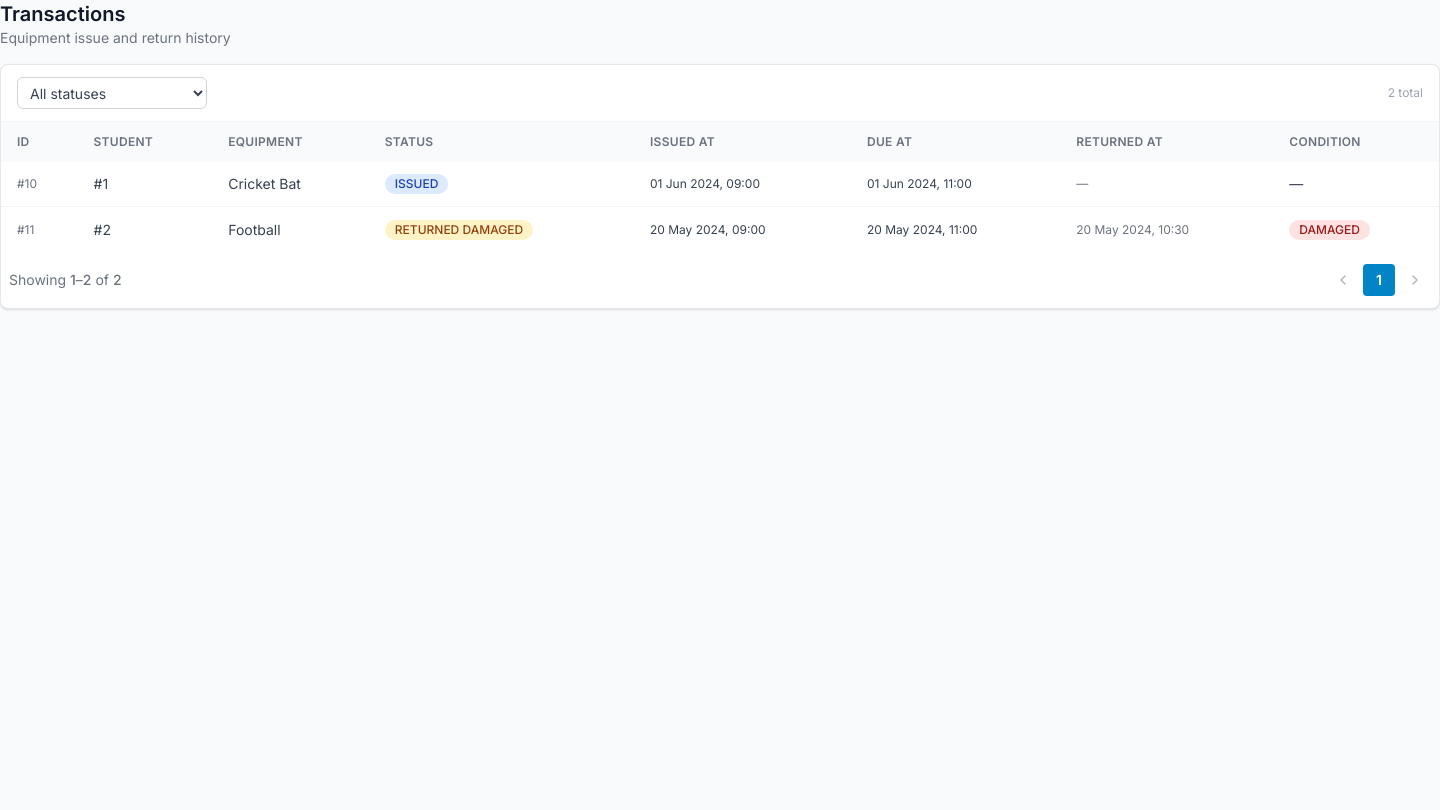
Test: TransactionsPage › shows transaction detail modal on row click
The width and height of the screenshot is (1440, 810).
Expected: the text "Cricket Bat" is shown, [212,162,369,206]
Click the row that starts with "Cricket Bat". click: (720, 184)
box: [1,162,1439,206]
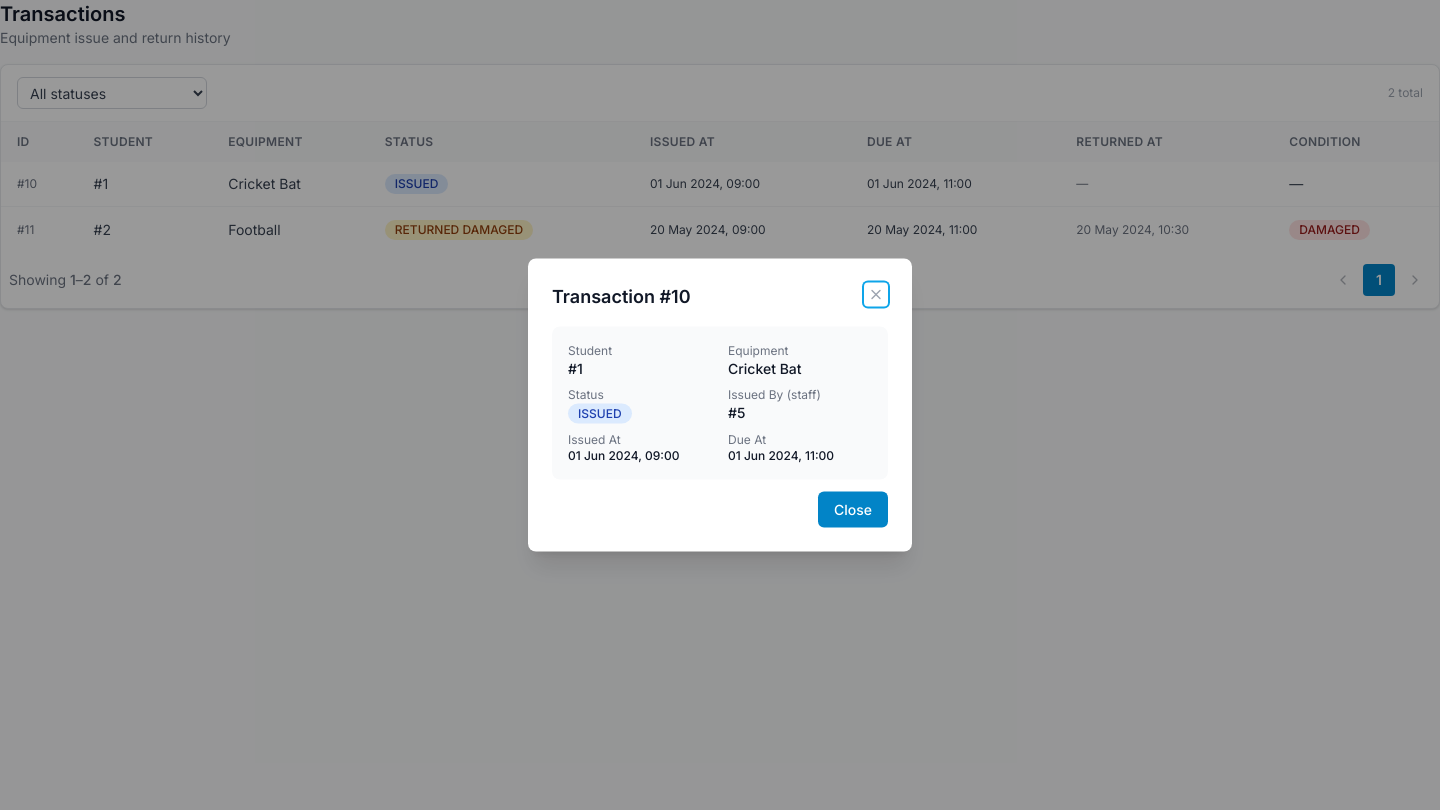
Now the heading "Transaction #10" is shown, box [552,282,690,310]
